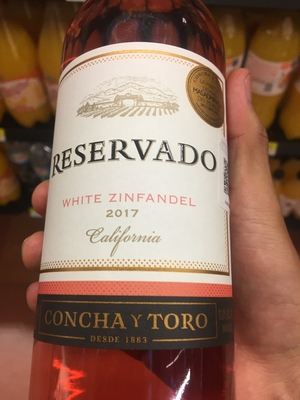reservado white zinfandel: (37, 16, 246, 400)
